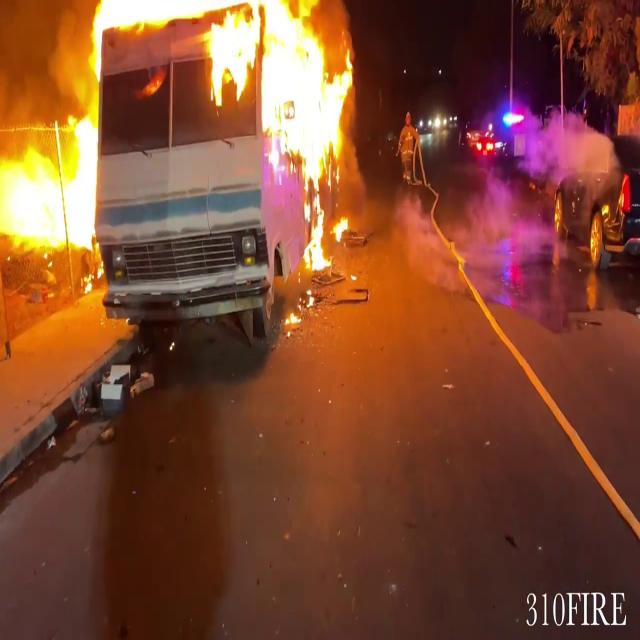Fire: (202, 0, 360, 279), (0, 73, 112, 298)
